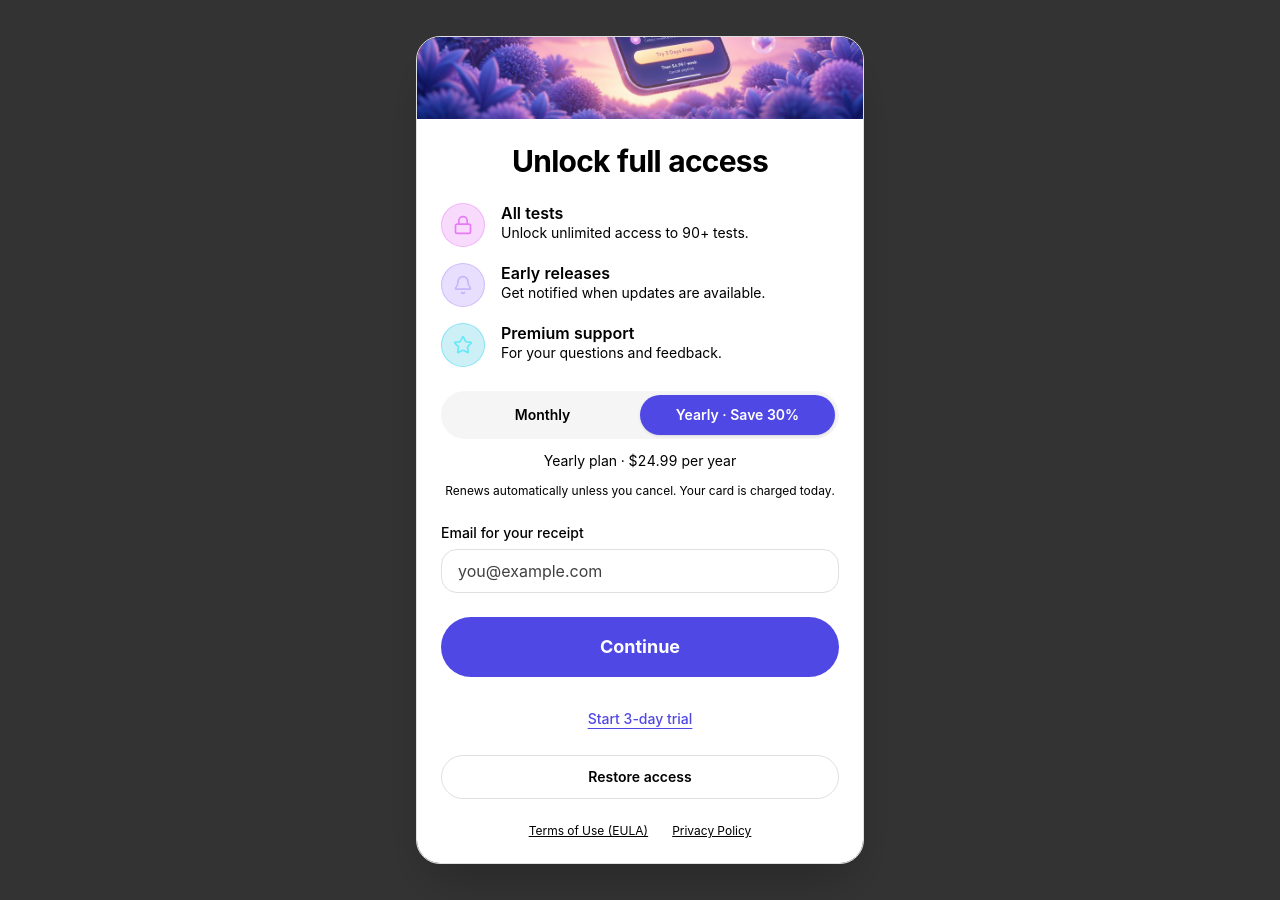
Test: PaywallModal trial entry › keeps the form usable when the code cannot be sent
(page scrolled)
Click the button "Start 3-day trial" at (640, 719), box [588,709,692,729]
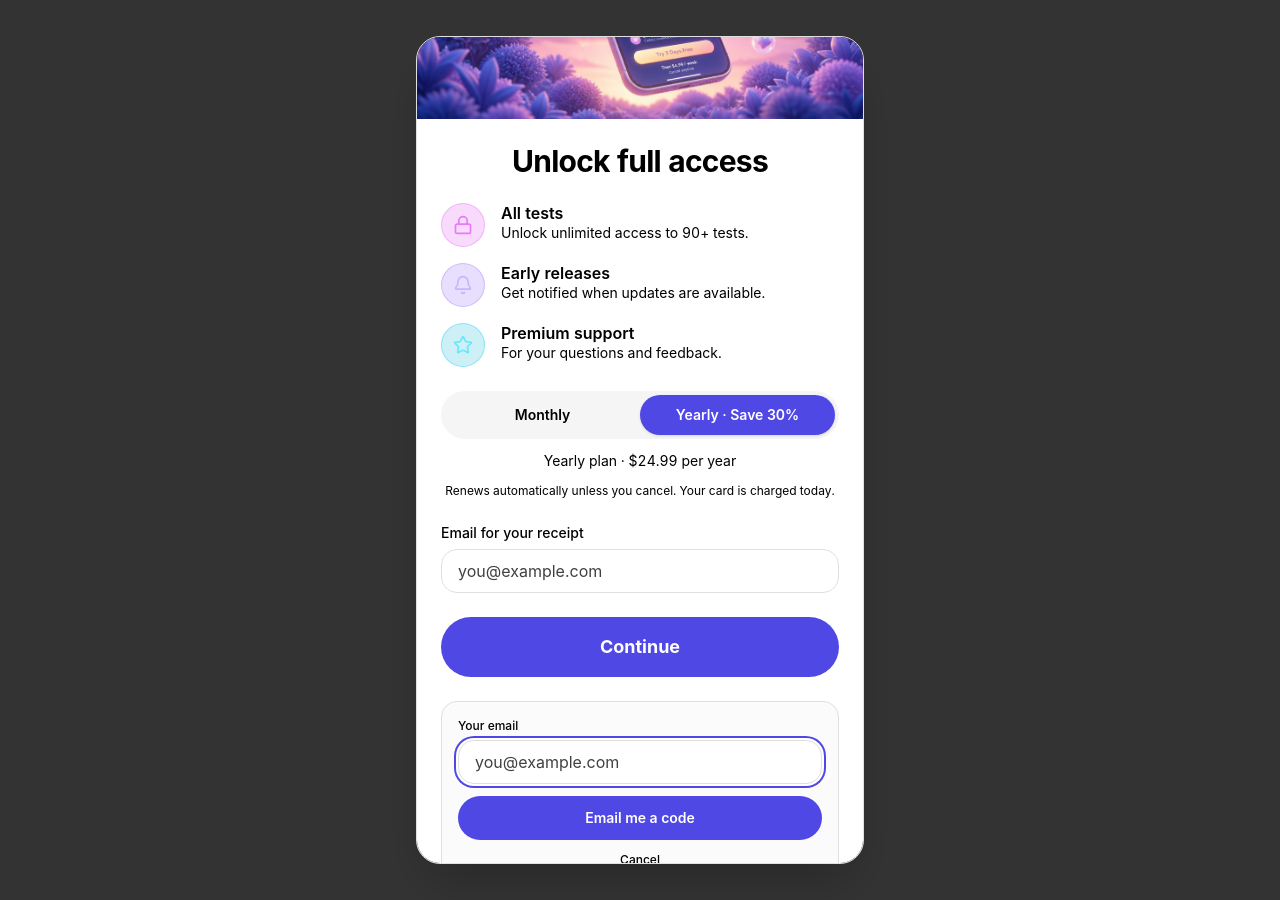
Type "someone@example.com" into the field labelled "Your email" at (640, 762), box [458,740,822,784]
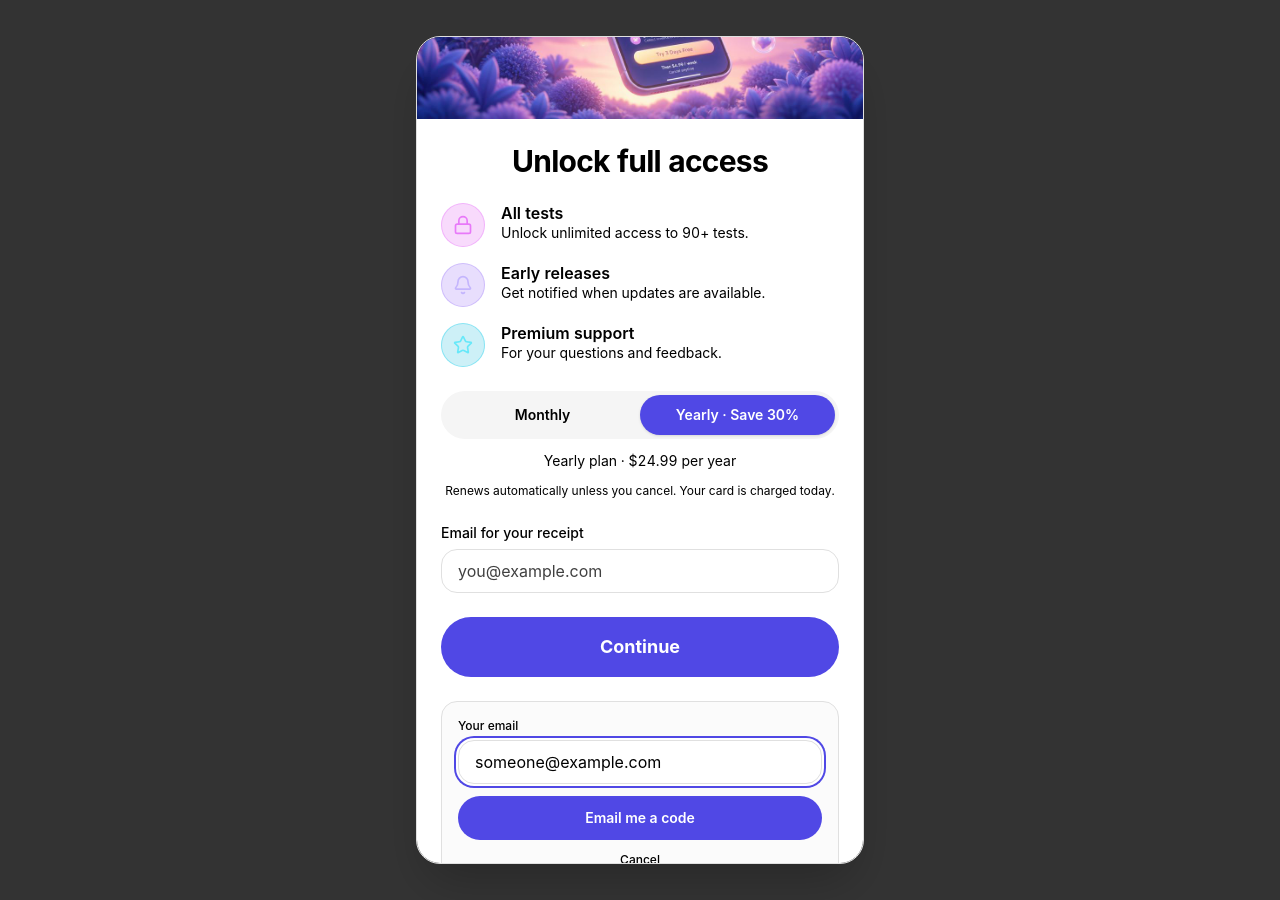
Click the button "Email me a code" at (640, 818), box [458,796,822,840]
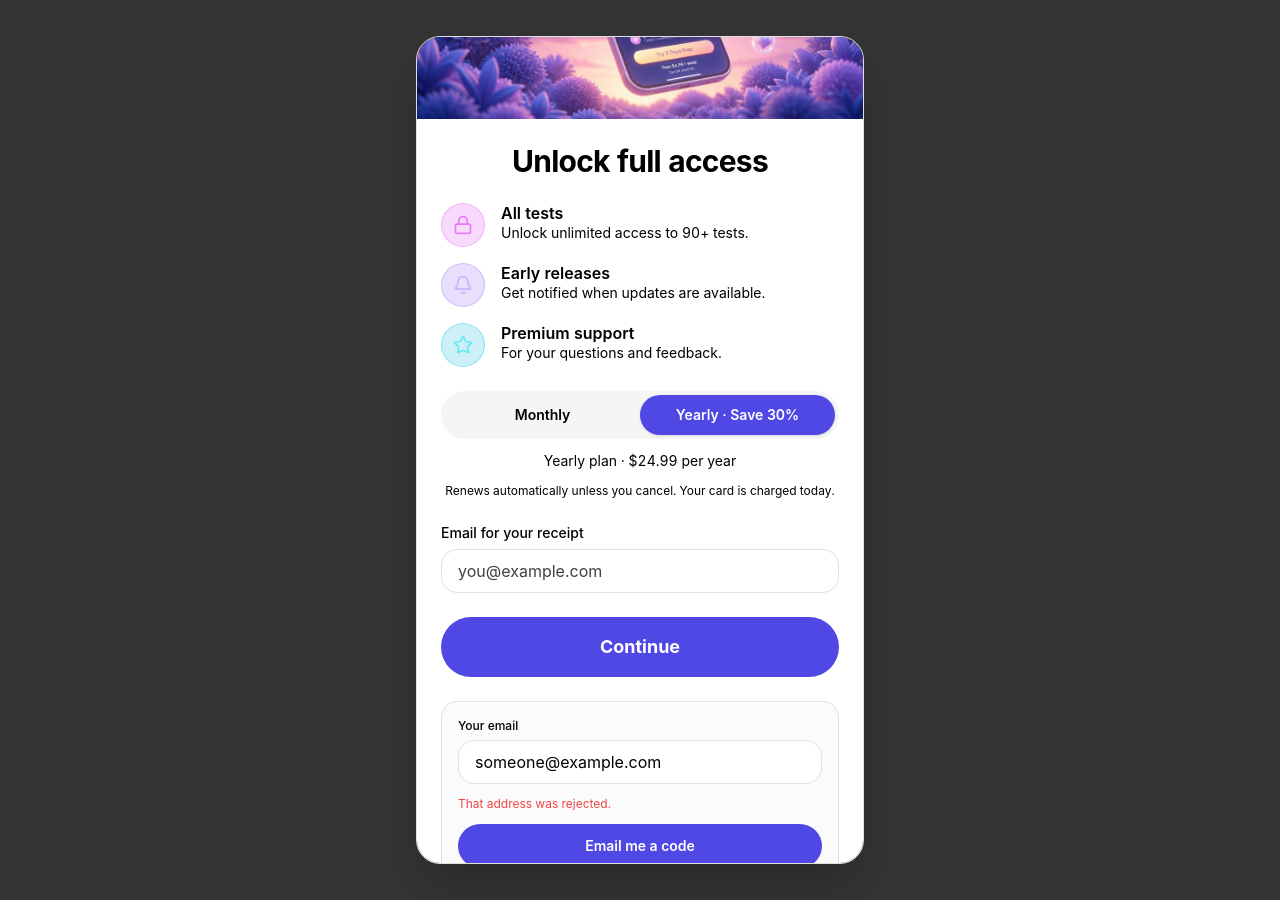
Expected: the button "Email me a code" is enabled, [458,824,822,864]
Now the message shows "rejected", box [458,796,611,811]
